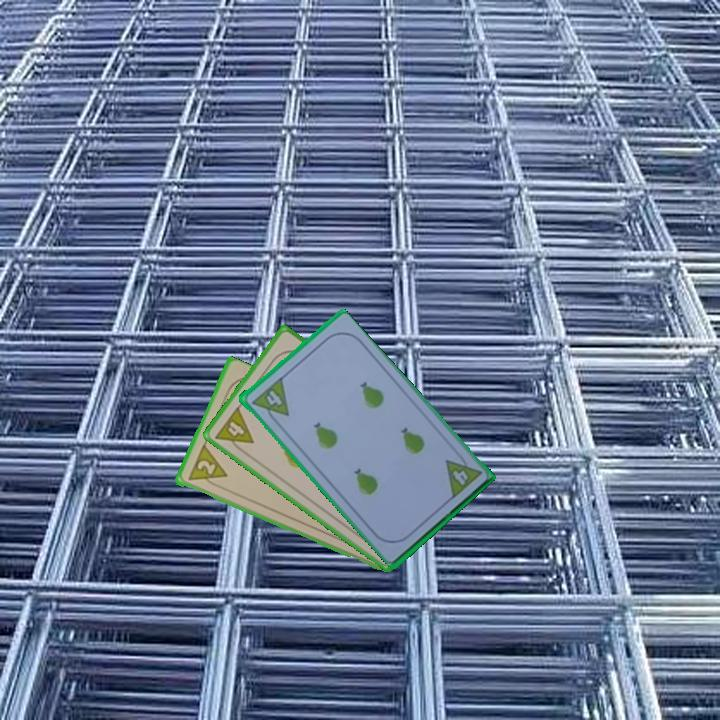2p: (184, 443, 230, 492)
4p: (211, 403, 257, 457), (248, 374, 292, 427), (441, 447, 484, 501)
